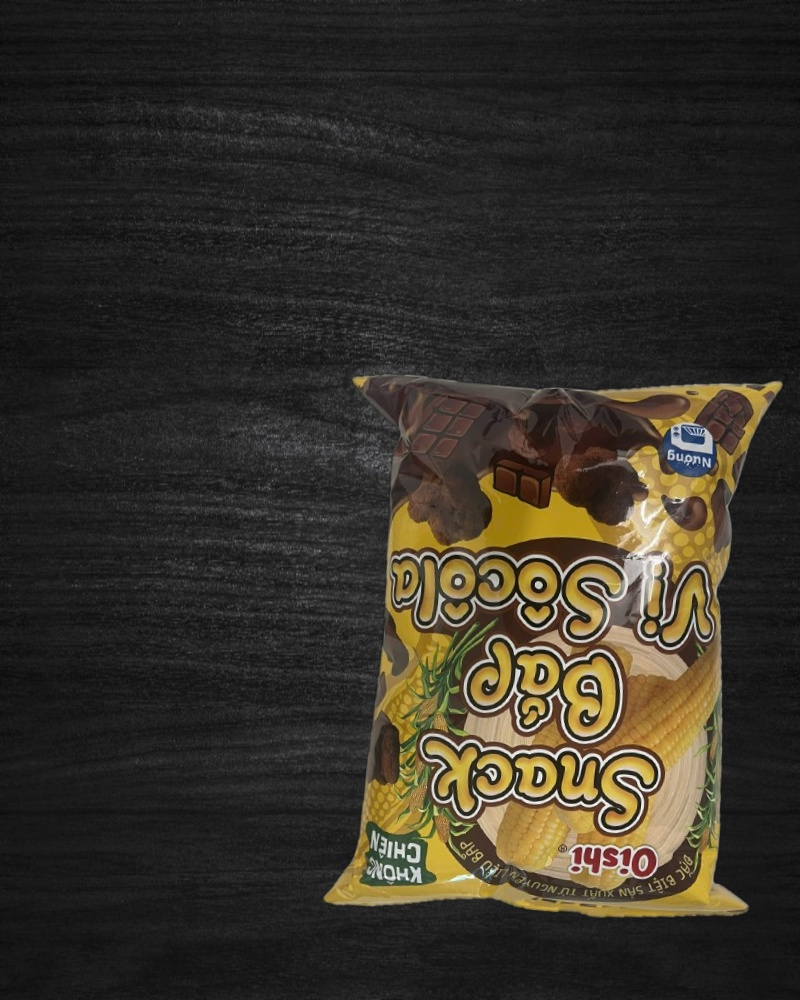Snack socola: (308, 348, 795, 940)
